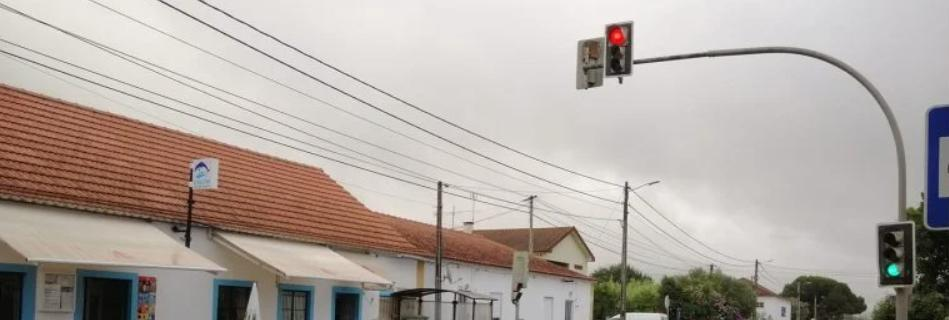green_light: (877, 221, 916, 288)
red_light: (604, 21, 633, 77)
